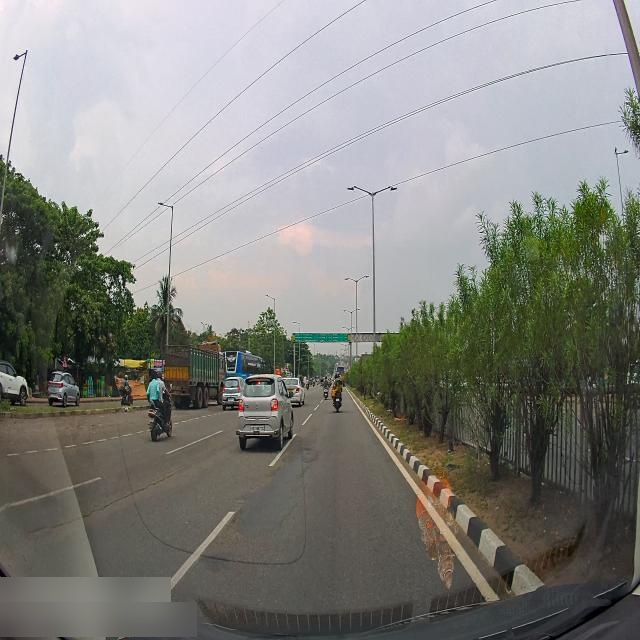pothole: (207, 493, 250, 555), (267, 454, 288, 476), (305, 440, 317, 462)
